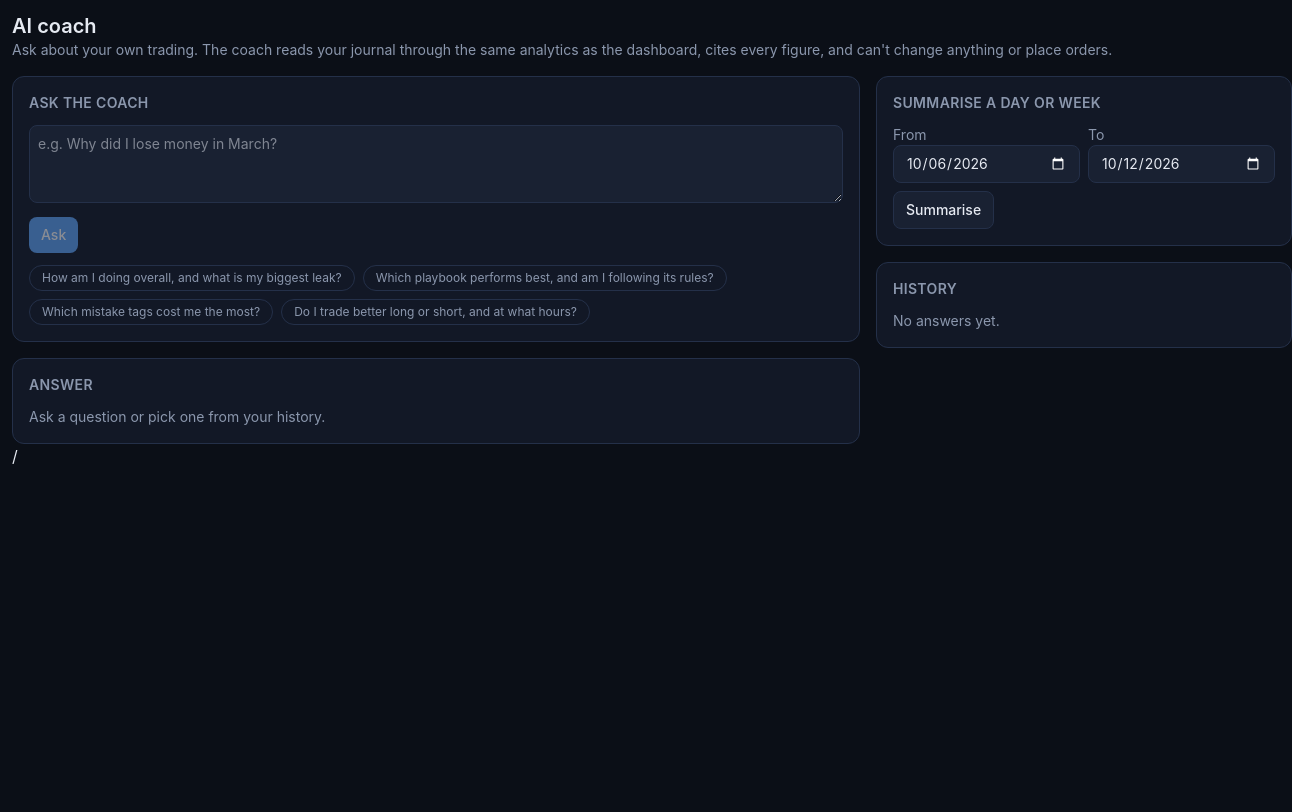
AI coach page › asks a question and shows the answer with its evidence
Type "How am I doing?" into the text box named "Question" at x=436, y=164, box top-left (29, 125), bottom-right (843, 203)
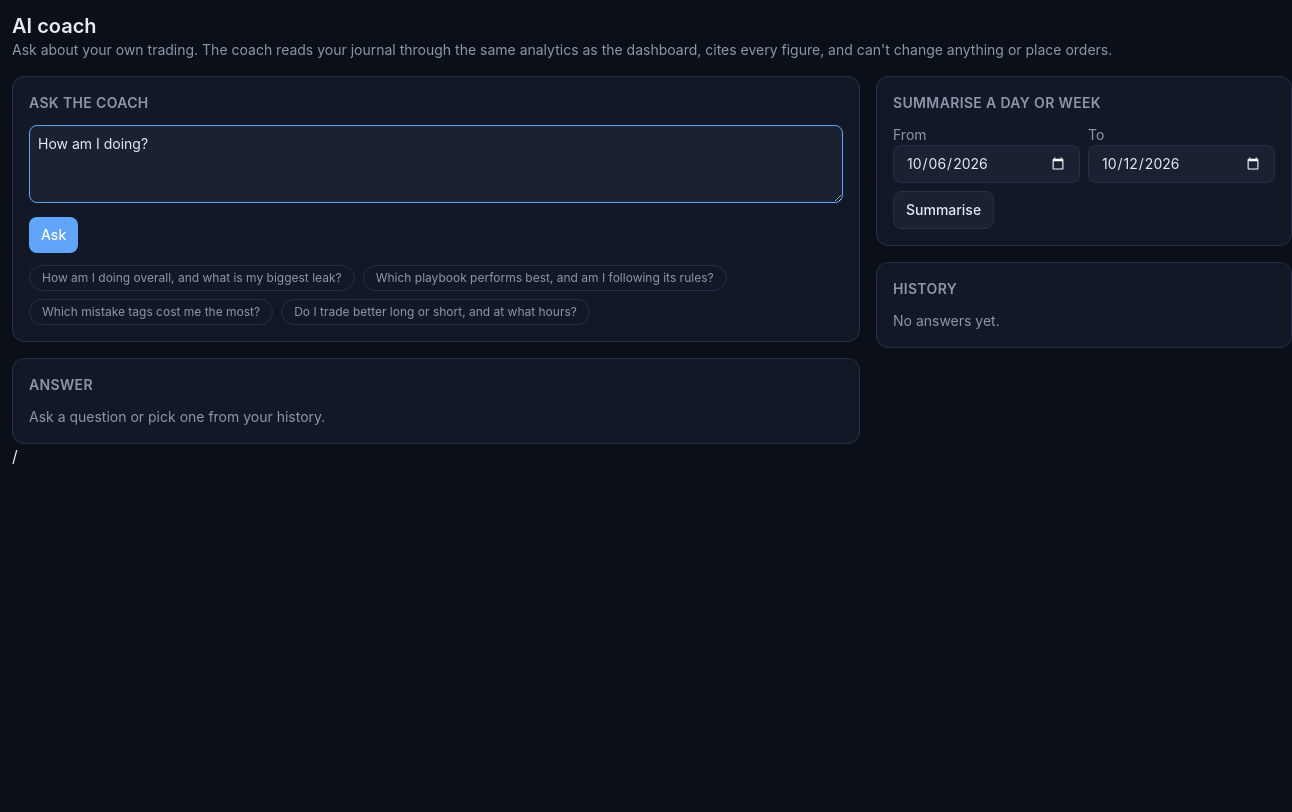
Click the button "Ask" at x=54, y=235, box top-left (29, 217), bottom-right (78, 253)
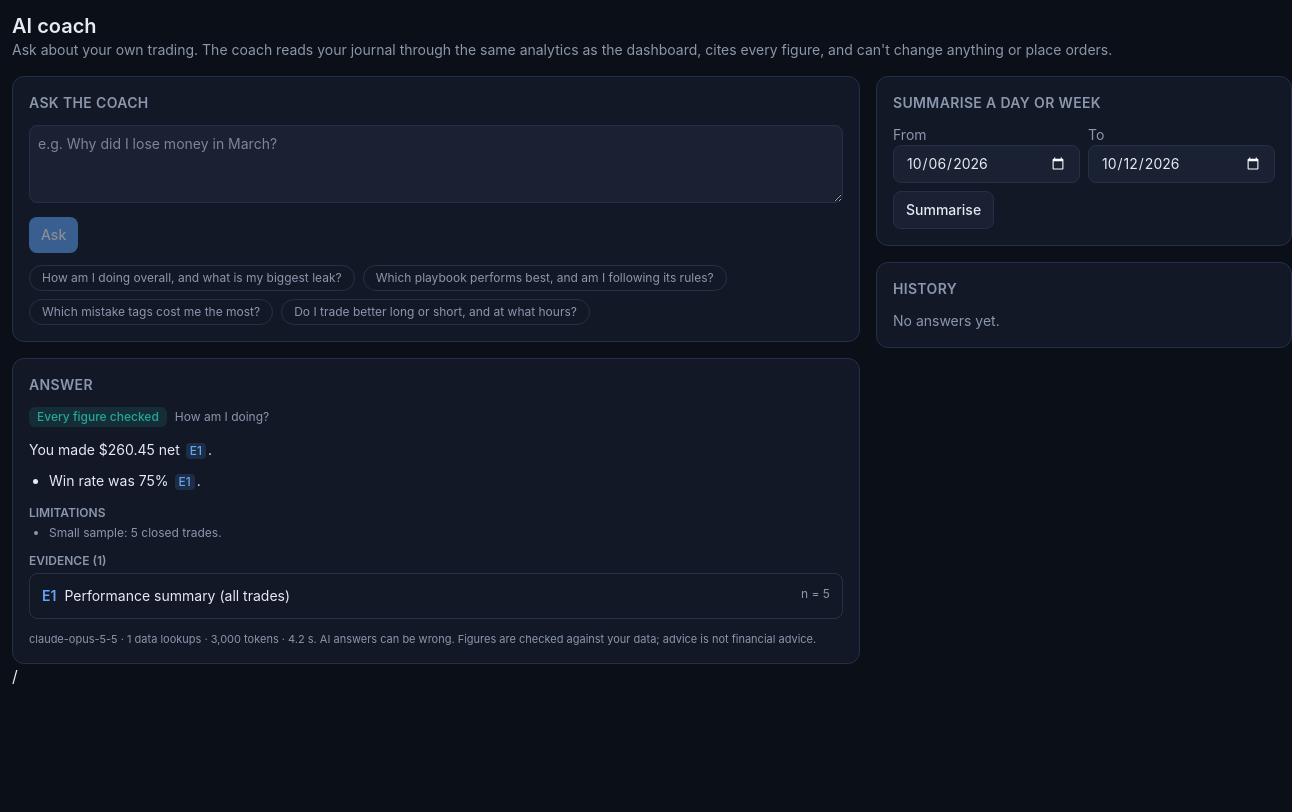
Expected: the element with test id "coach-answer" shows "You made $260.45 net", top-left (29, 441), bottom-right (184, 458)
Expected: the element with test id "coach-answer" shows "Every figure checked", top-left (37, 409), bottom-right (159, 424)
Expected: the element with test id "coach-answer" shows "Small sample: 5 closed trades.", top-left (49, 524), bottom-right (222, 540)
Note: a citation opens the evidence, with the figures the coach saw
Click the button named "Evidence E1" at x=196, y=451, box top-left (186, 443), bottom-right (206, 459)
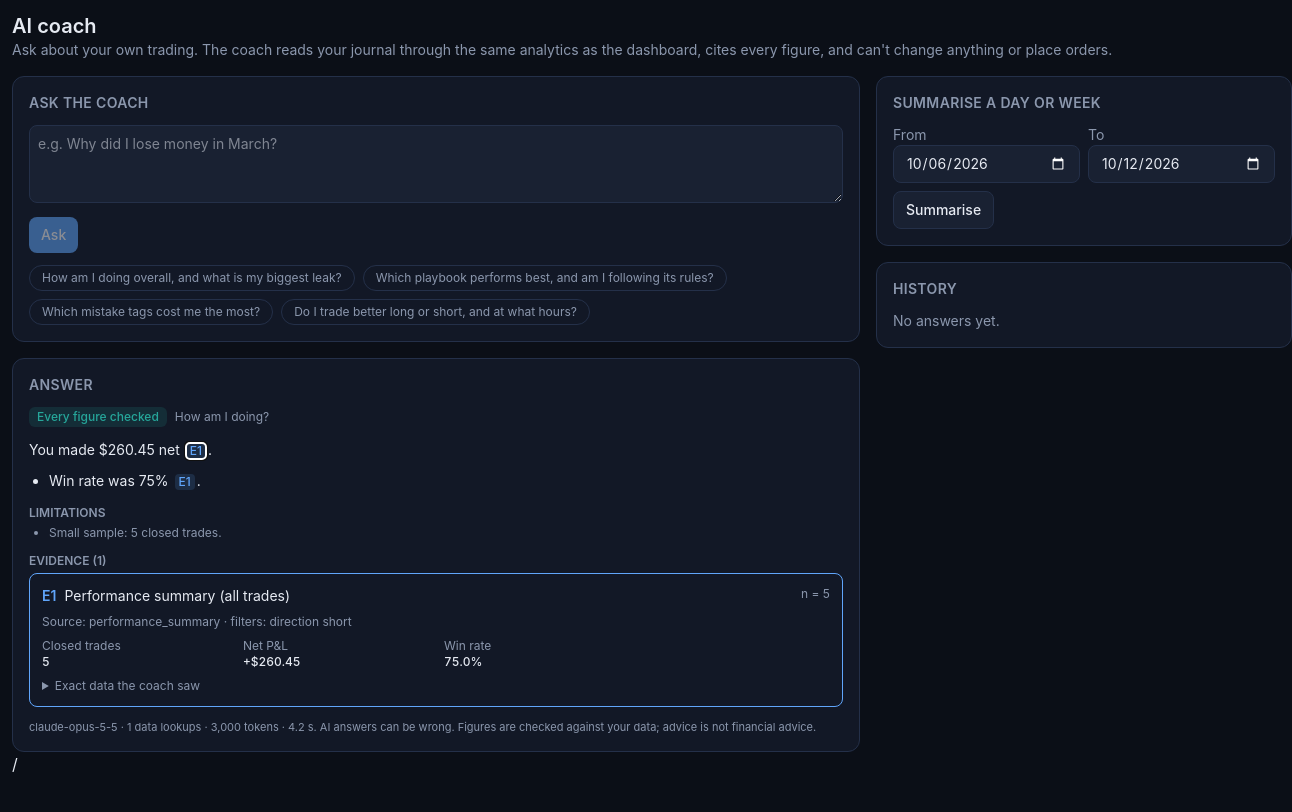
Expected: the list with test id "coach-evidence" shows "filters: direction short", top-left (29, 572), bottom-right (843, 706)
Expected: the list with test id "coach-evidence" shows "+$260.45", top-left (243, 654), bottom-right (301, 668)
Expected: the list with test id "coach-evidence" shows "75.0%", top-left (444, 654), bottom-right (482, 668)
